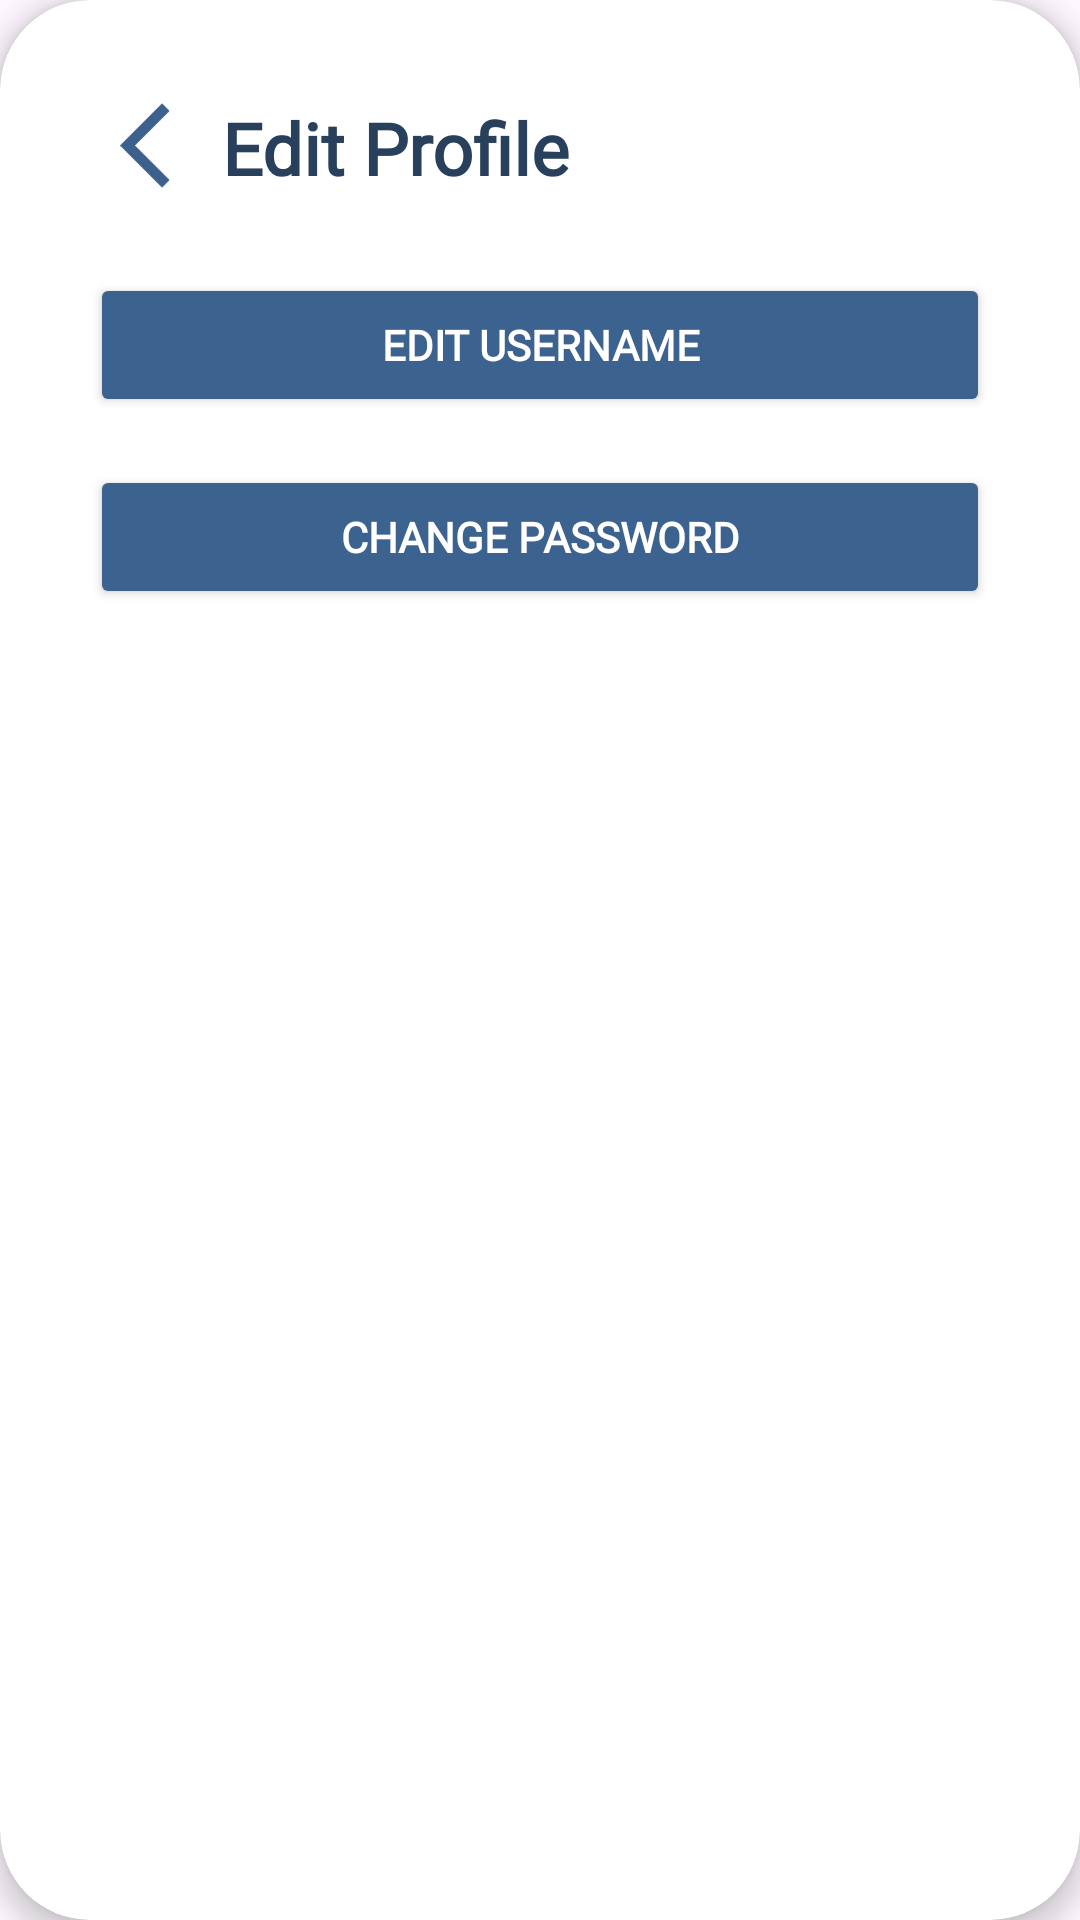

Icon bounding boxes for this 1080px×1920px phone screenshot, format (x1, y1, x2, y2):
arrow back: (120, 103, 170, 188)
